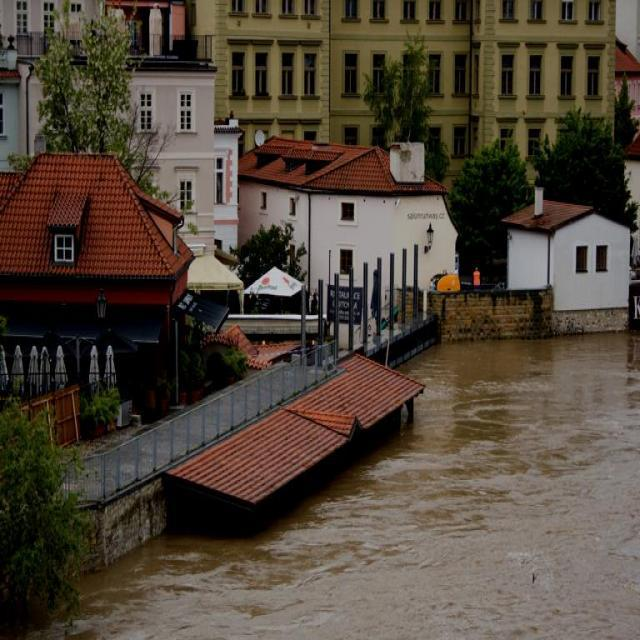flood: (97, 324, 639, 639)
